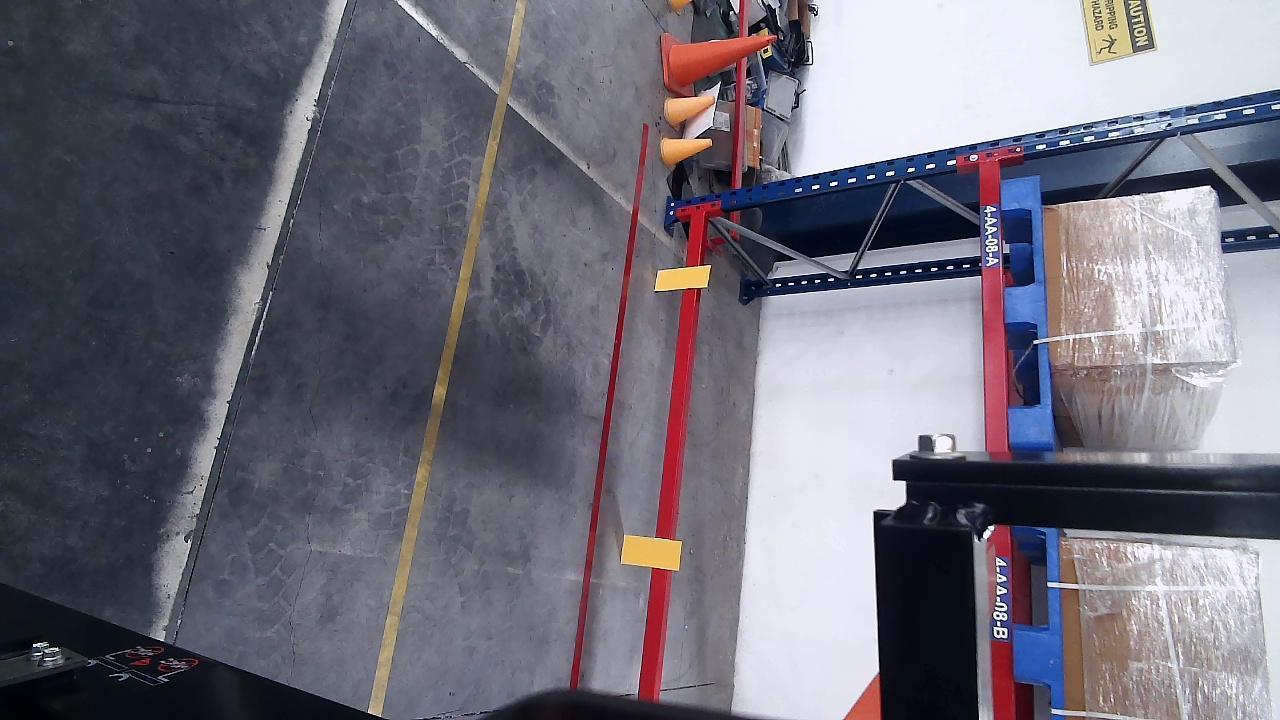red_line: (566, 123, 651, 693)
yellow_line: (367, 0, 527, 720)
